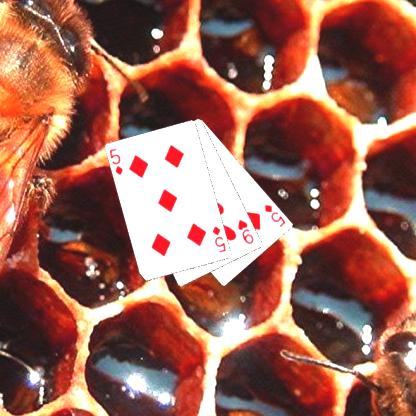5D: (262, 202, 287, 228), (210, 223, 227, 254), (107, 146, 124, 176)
9H: (235, 217, 256, 245)
